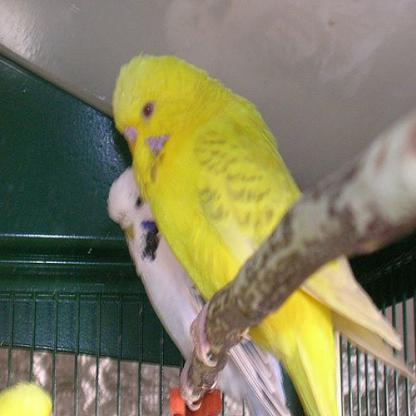bird: (112, 50, 415, 414), (102, 161, 303, 415)
